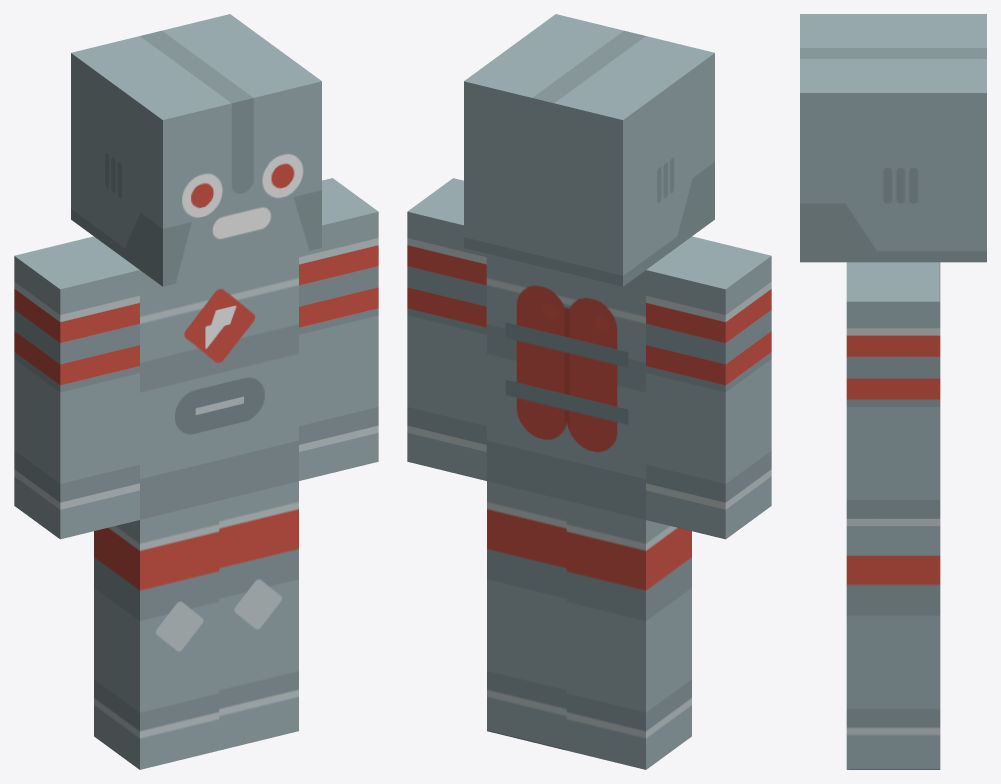
The model's file is basic_robot.glb.
The picture shows the model from 3 angles, left to right: view 1: azimuth 30°, elevation 25°; view 2: azimuth 150°, elevation 25°; view 3: azimuth 270°, elevation 25°; orthographic projection.
Parts seen in each view (by area): view 1: Head1, Body1, ArmRight1, LegRight1, ArmLeft1, LegLeft1; view 2: Head1, Body1, ArmRight1, LegRight1, ArmLeft1, LegLeft1; view 3: Head1, ArmLeft1, LegLeft1.
Part boxes in pixels (left/top/right/bottom): Head1: left=71, top=14, right=321, bottom=286; Body1: left=139, top=253, right=298, bottom=519; ArmRight1: left=14, top=236, right=139, bottom=539; LegRight1: left=94, top=500, right=219, bottom=769; ArmLeft1: left=299, top=178, right=378, bottom=480; LegLeft1: left=219, top=481, right=298, bottom=750; Head1: left=464, top=14, right=714, bottom=286; Body1: left=486, top=253, right=645, bottom=519; ArmRight1: left=646, top=236, right=771, bottom=539; LegRight1: left=566, top=500, right=691, bottom=769; ArmLeft1: left=407, top=178, right=486, bottom=480; LegLeft1: left=487, top=481, right=566, bottom=750; Head1: left=800, top=14, right=986, bottom=262; ArmLeft1: left=846, top=262, right=940, bottom=555; LegLeft1: left=846, top=555, right=940, bottom=769.
Bounding box in the file's own units: 8 × 16 × 4.
Materials: 1 (1 with a texture image).
